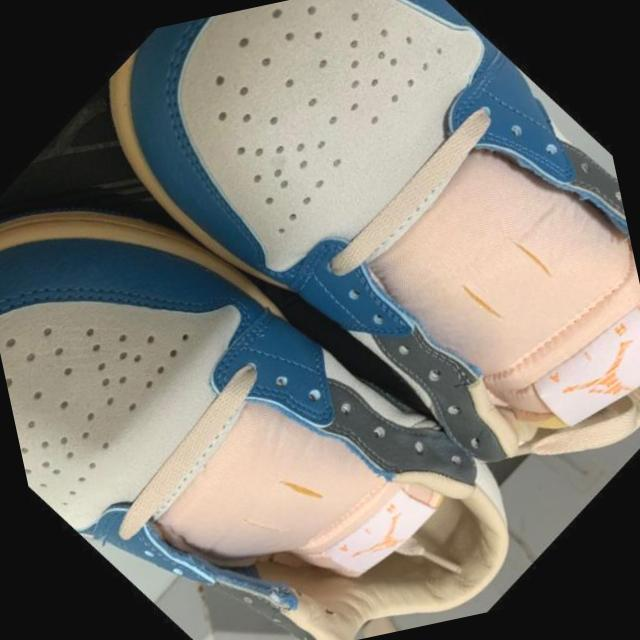nike_original_jordan: (52, 0, 640, 633), (0, 18, 573, 640)
